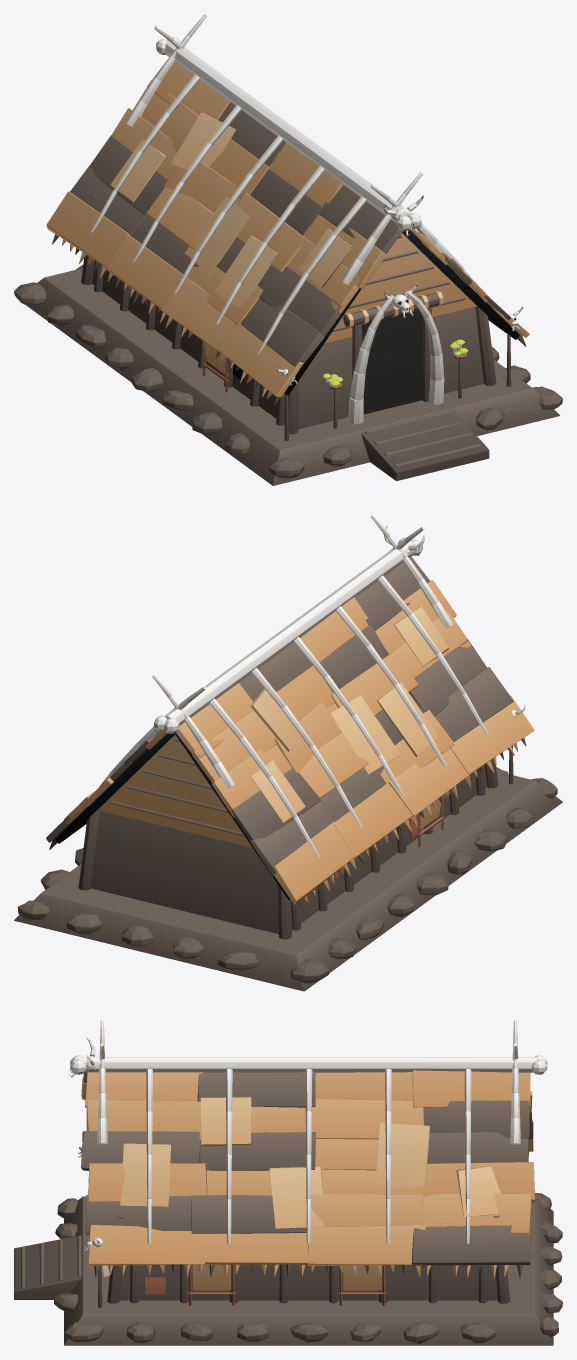
Rendered from murk_longhouse.glb.
3 views of the same model, one above another, from view 1: azimuth 30°, elevation 25°; view 2: azimuth 150°, elevation 25°; view 3: azimuth 270°, elevation 25° (orthographic). The views are drawn at different scales.
Parts seen in each view (by area): view 1: murk_longhouse; view 2: murk_longhouse; view 3: murk_longhouse.
Part boxes in pixels (left/top/right/bottom): murk_longhouse: left=14, top=14, right=562, bottom=485; murk_longhouse: left=14, top=514, right=562, bottom=991; murk_longhouse: left=14, top=1020, right=562, bottom=1345.
Bounding box in the file's own units: 15.89 × 12.66 × 25.51.
2 materials, 2 textured.
